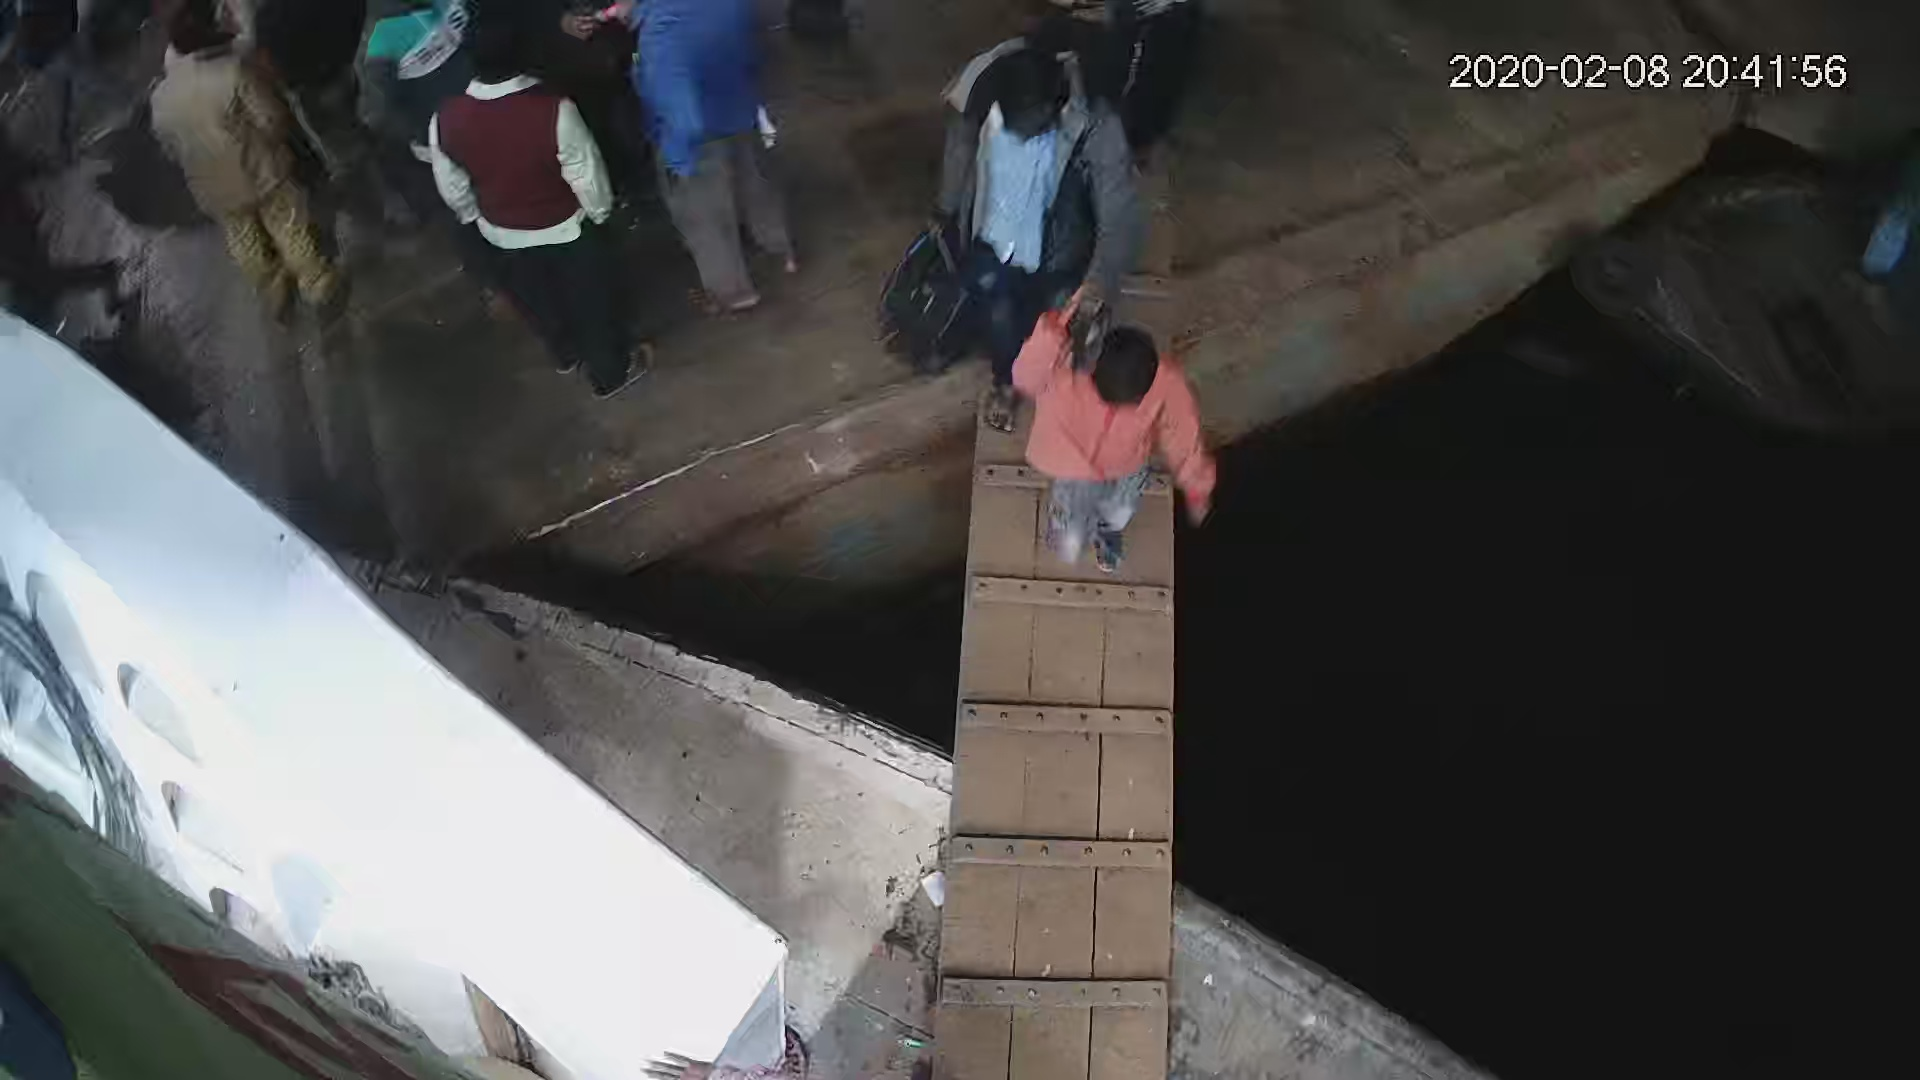person: (415, 32, 658, 405), (935, 43, 1129, 432), (135, 11, 360, 336), (629, 1, 808, 334), (1015, 324, 1202, 586)
